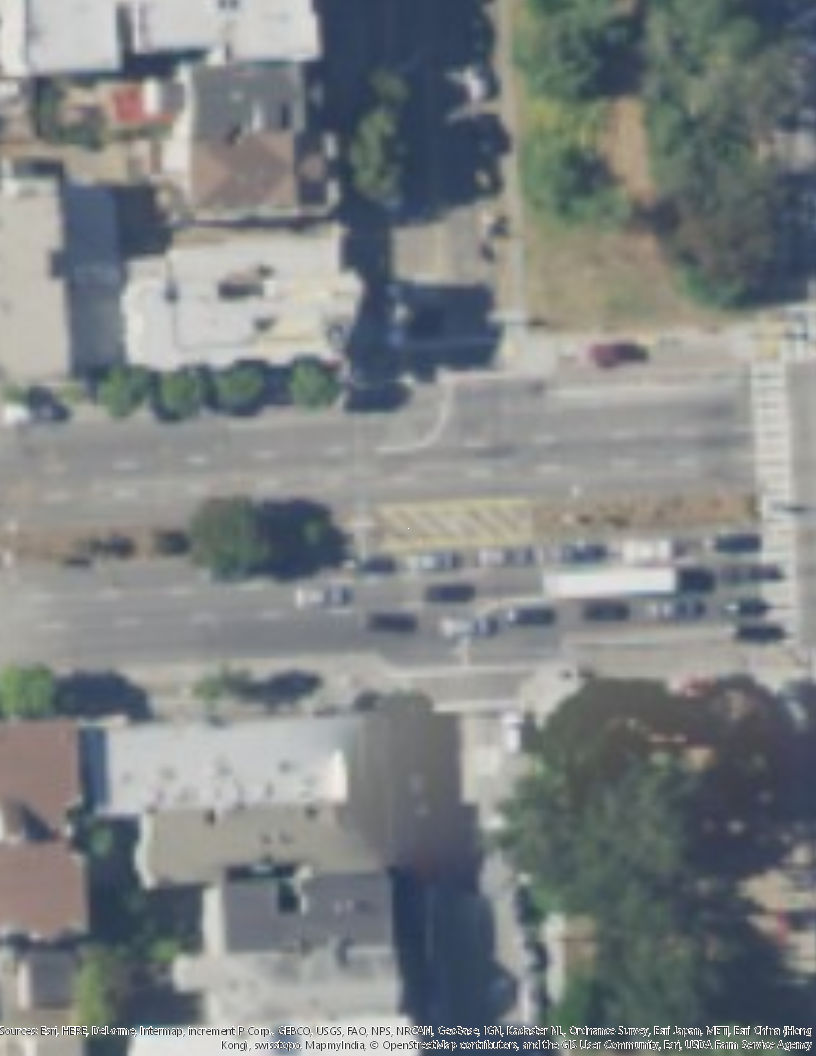zebracross: (751, 360, 800, 643)
